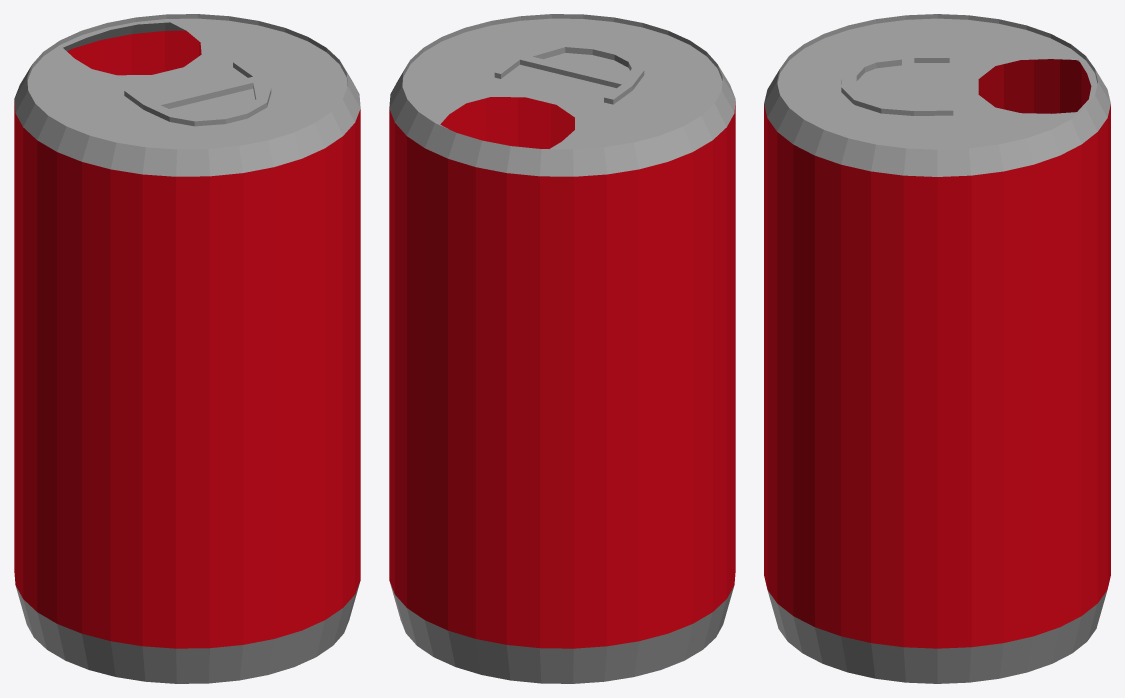
Rendered from lata.dae.
The picture shows the model from 3 angles, left to right: view 1: azimuth 30°, elevation 25°; view 2: azimuth 150°, elevation 25°; view 3: azimuth 270°, elevation 25°; orthographic projection.
Parts seen in each view (by area): view 1: Cylinder.001, Cylinder; view 2: Cylinder.001, Cylinder; view 3: Cylinder.001, Cylinder.
Boxes of the visible parts, <box> form: Cylinder.001: <box>14,30,360,648</box>; Cylinder: <box>14,14,360,683</box>; Cylinder.001: <box>389,97,735,648</box>; Cylinder: <box>389,14,735,683</box>; Cylinder.001: <box>764,59,1110,648</box>; Cylinder: <box>764,14,1110,683</box>.
Size of the model in its own units: 0.2 by 0.2 by 0.3397.
